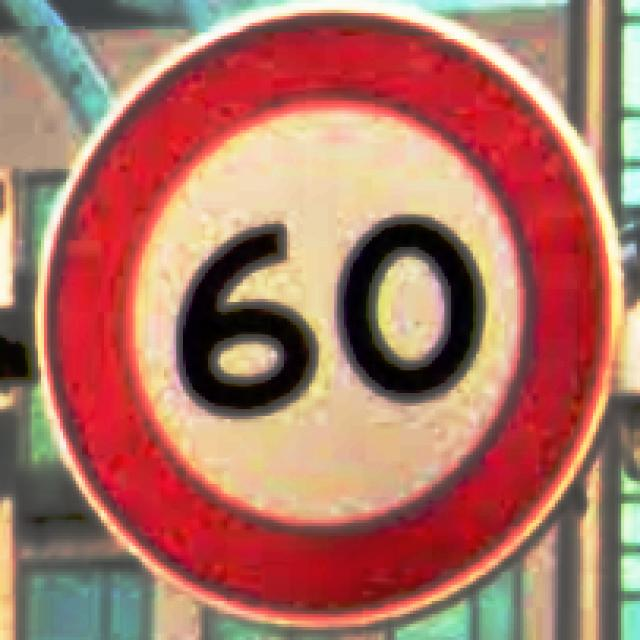max60: (32, 0, 621, 627)
